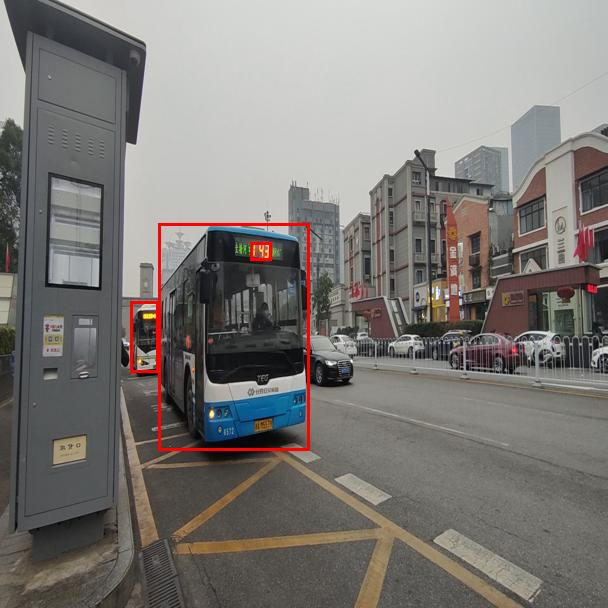bus: (158, 223, 309, 450), (130, 301, 158, 372)
screen: (250, 242, 271, 260)
